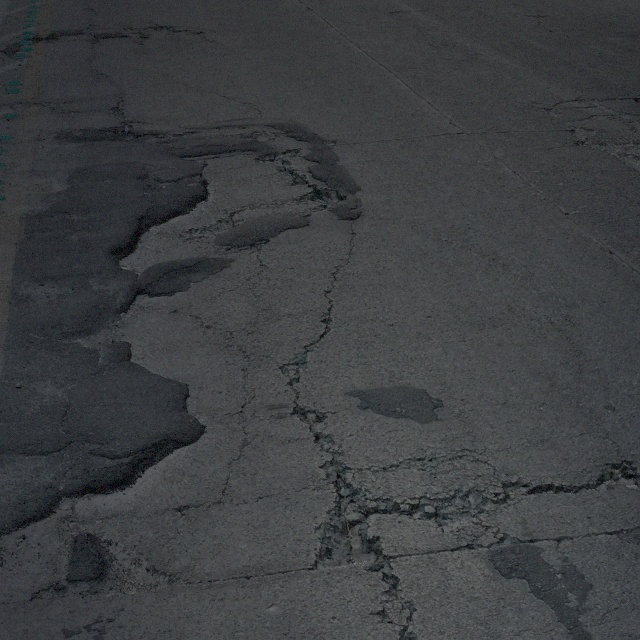pothole: (314, 477, 388, 570), (98, 532, 183, 592), (35, 570, 92, 605), (594, 134, 638, 174), (601, 456, 637, 496), (299, 181, 347, 208), (188, 216, 234, 238), (572, 124, 597, 148), (110, 98, 126, 117)
